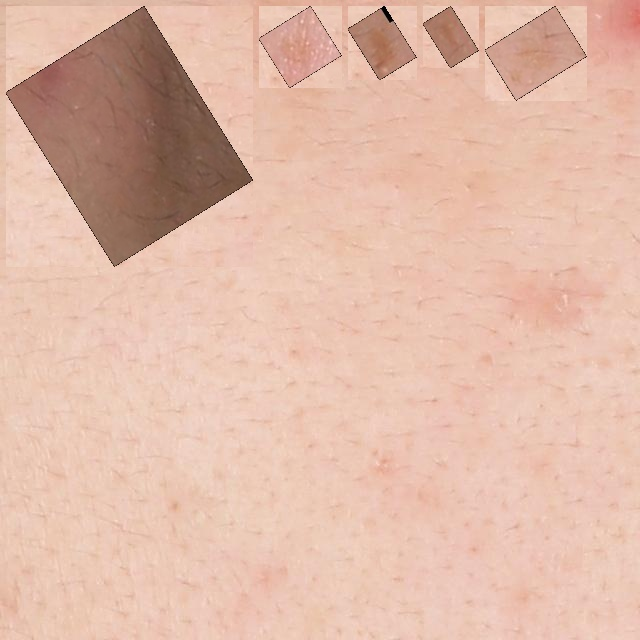hypertrophic_scar: (17, 17, 242, 255)
melasma: (496, 17, 576, 89), (270, 17, 330, 76), (359, 17, 405, 69), (434, 17, 468, 57)
